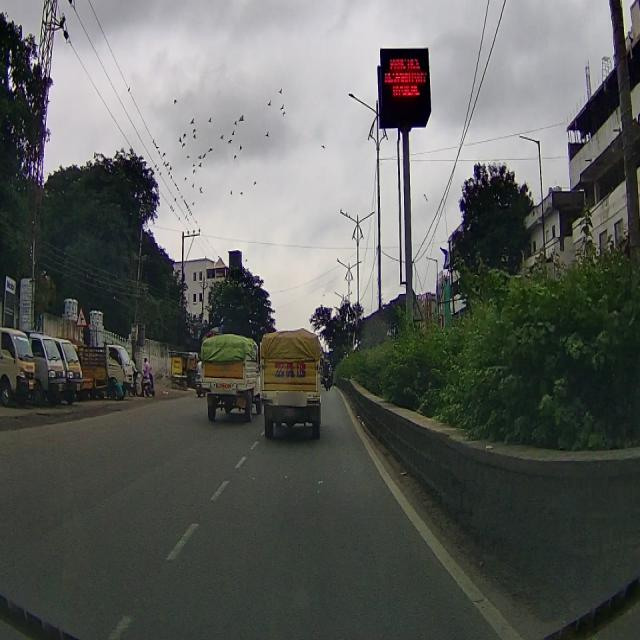truck ahead at: (258, 324, 328, 443), (200, 330, 258, 430)
